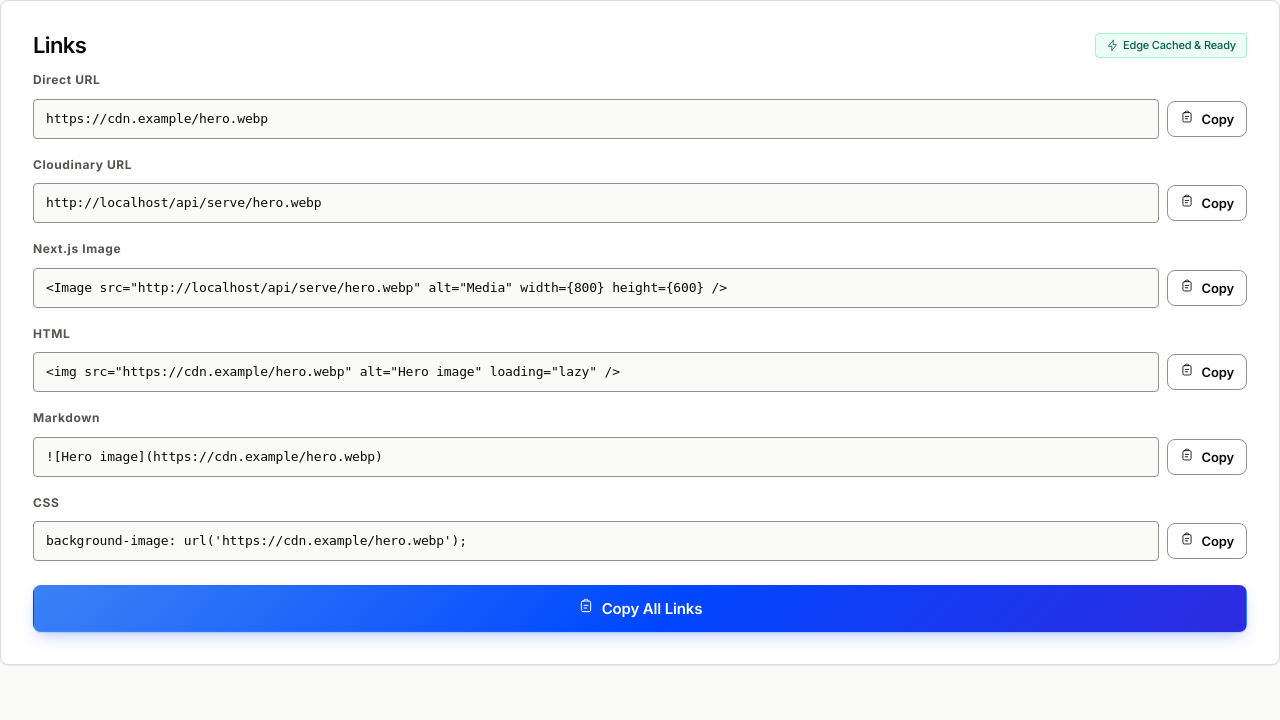
Test case: LinkGenerator › copies all links via the bulk button
The image size is (1280, 720).
Click the button "Copy All Links" at (640, 609), box [33, 585, 1247, 632]
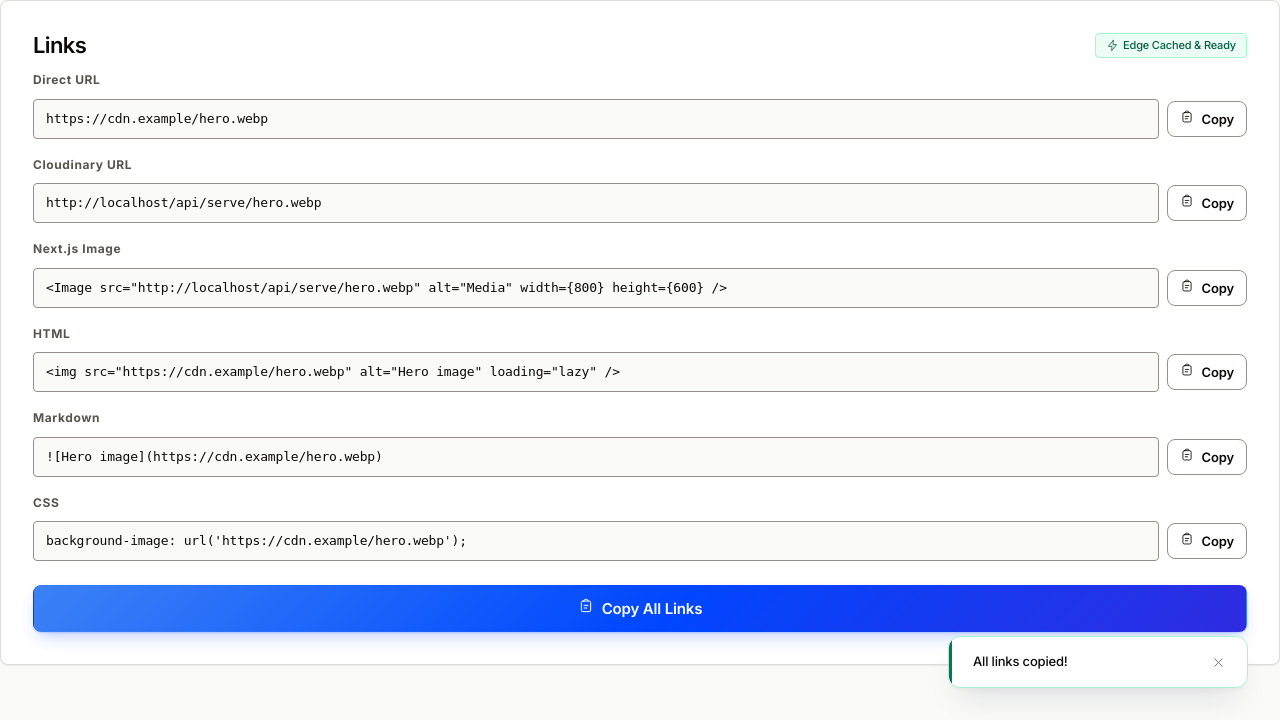
Check: the text "All links copied!" is shown, box [973, 653, 1068, 671]
